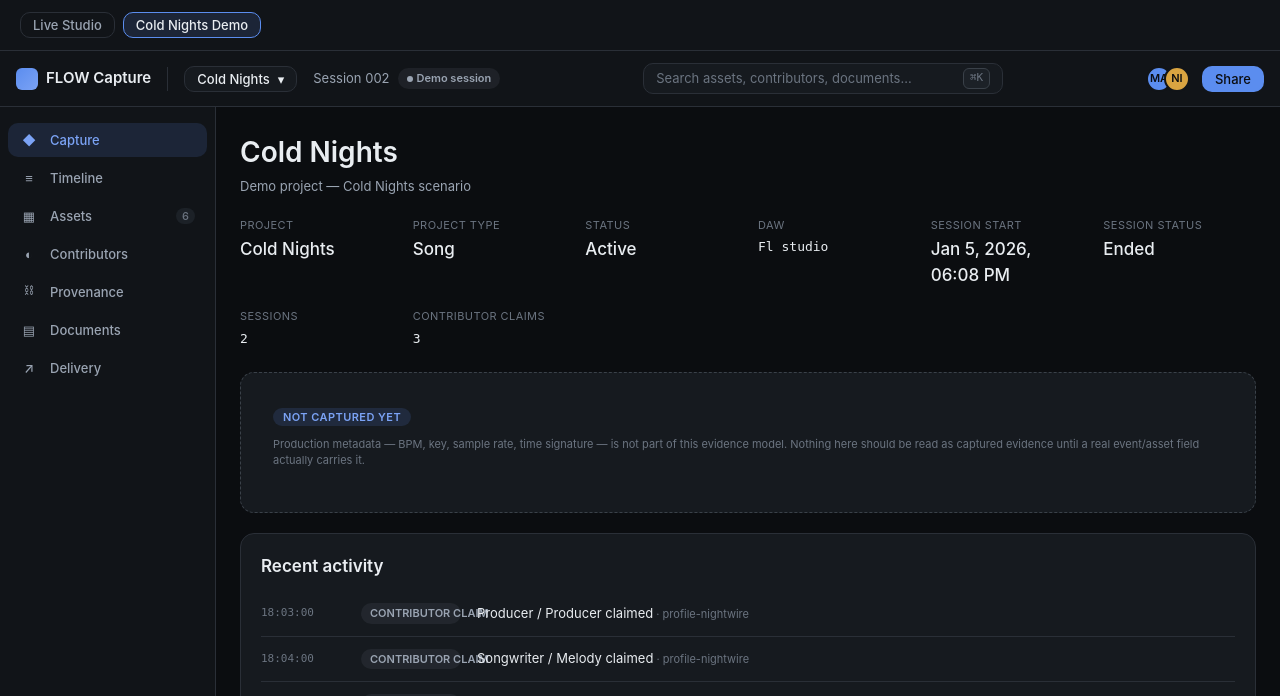
Test: Live Studio — real write path (mocked Studio service) › never labels a contributor claim "Verified" or "Confirmed" in live mode either
Click the button "Live Studio" at (67, 25), box [20,12,115,38]
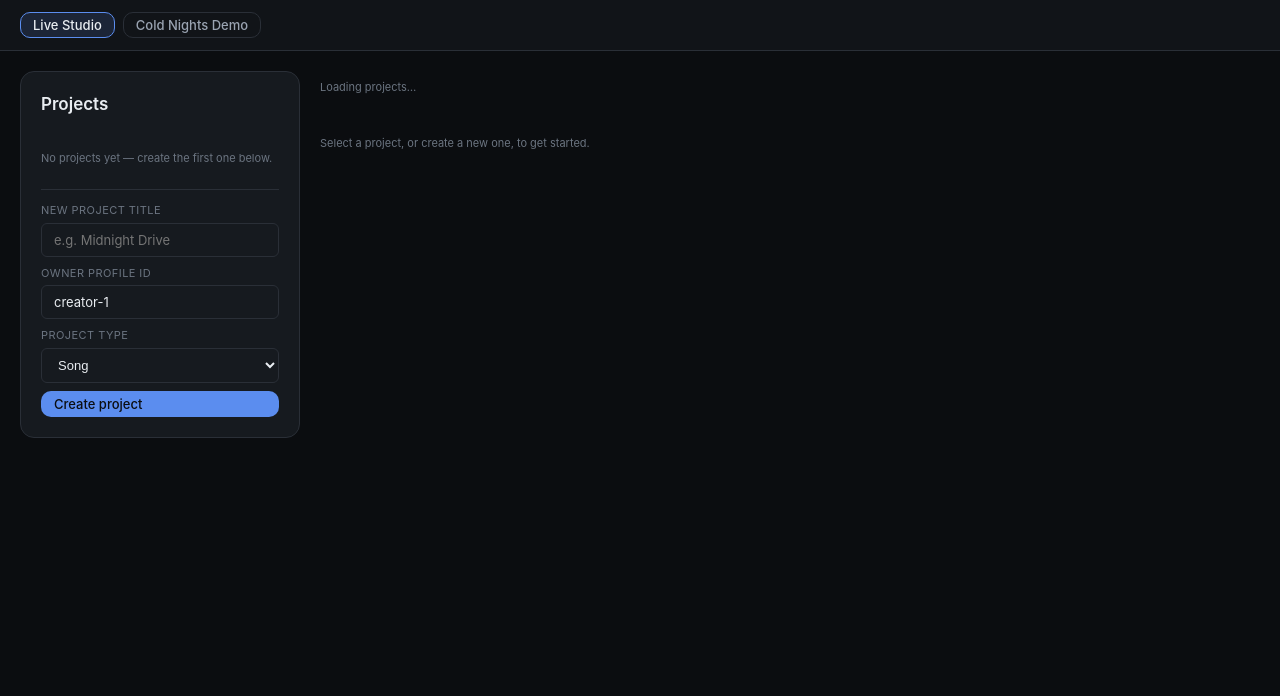
Now the text "No projects yet — create the first one below." is shown, box [41,150,279,166]
Type "Cold Nights 2" into the field with placeholder "e.g. Midnight Drive" at (160, 240), box [41,222,279,256]
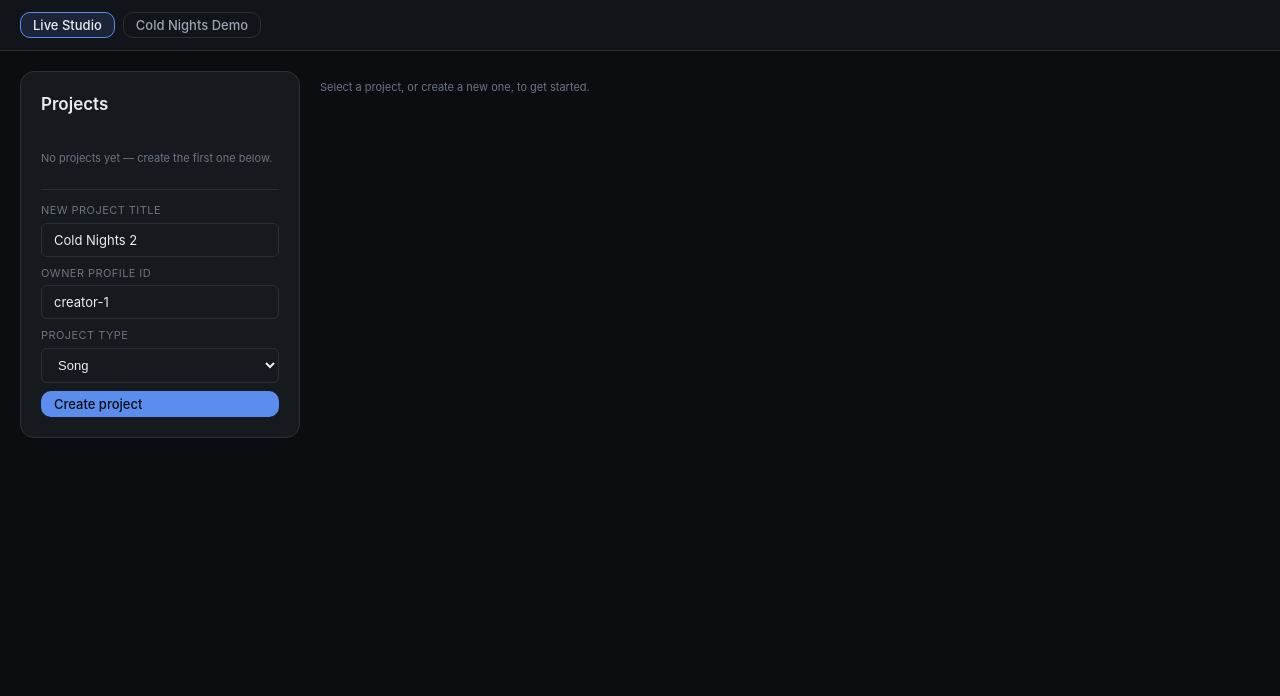
Click the button "Create project" at (160, 404), box [41,390,279,416]
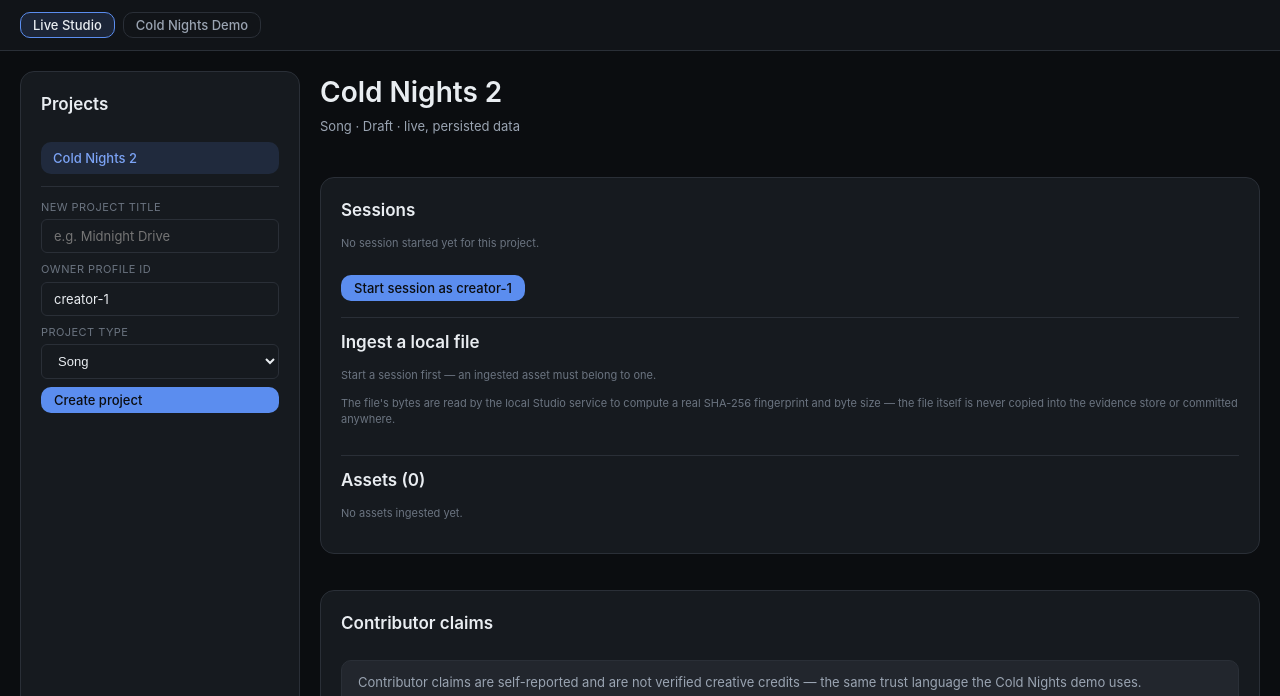
Now the heading "Cold Nights 2" is shown, box [320,71,520,113]
Click the button "Start session as creator-1" at (433, 288), box [341,274,525,300]
(page scrolled)
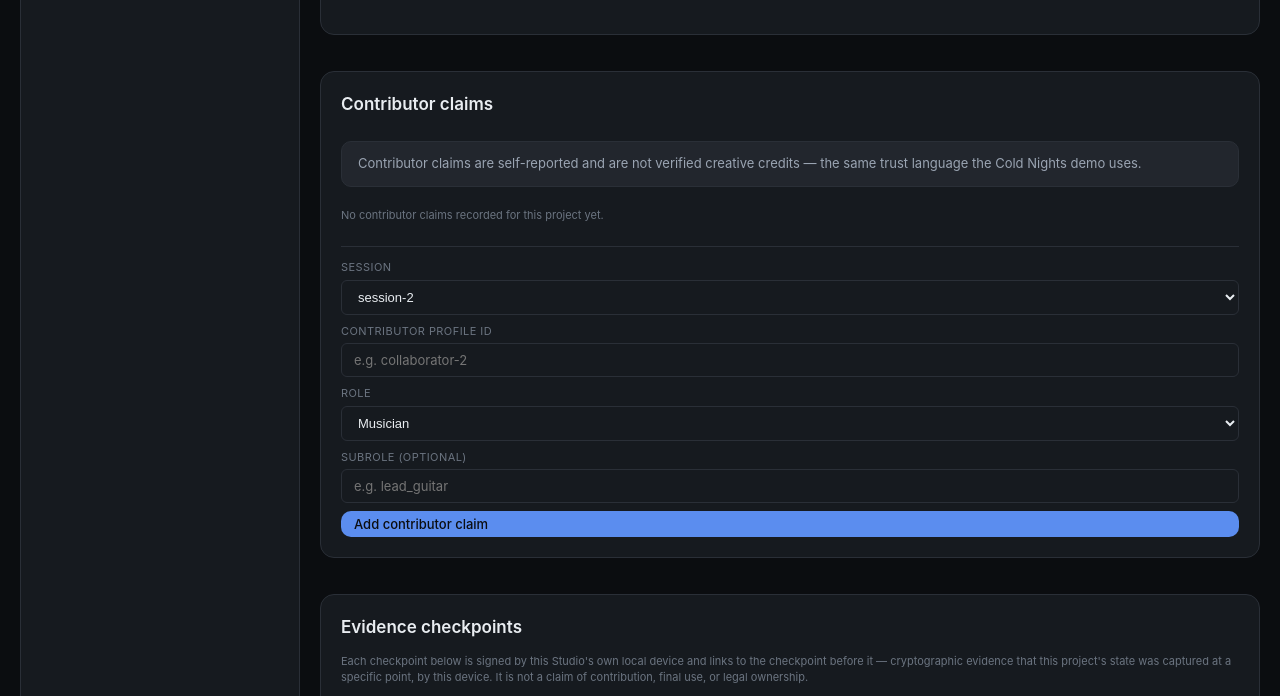
Now the field with placeholder "e.g. collaborator-2" is shown
Type "collaborator-3" into the field with placeholder "e.g. collaborator-2" at (790, 360), box [341,343,1239,377]
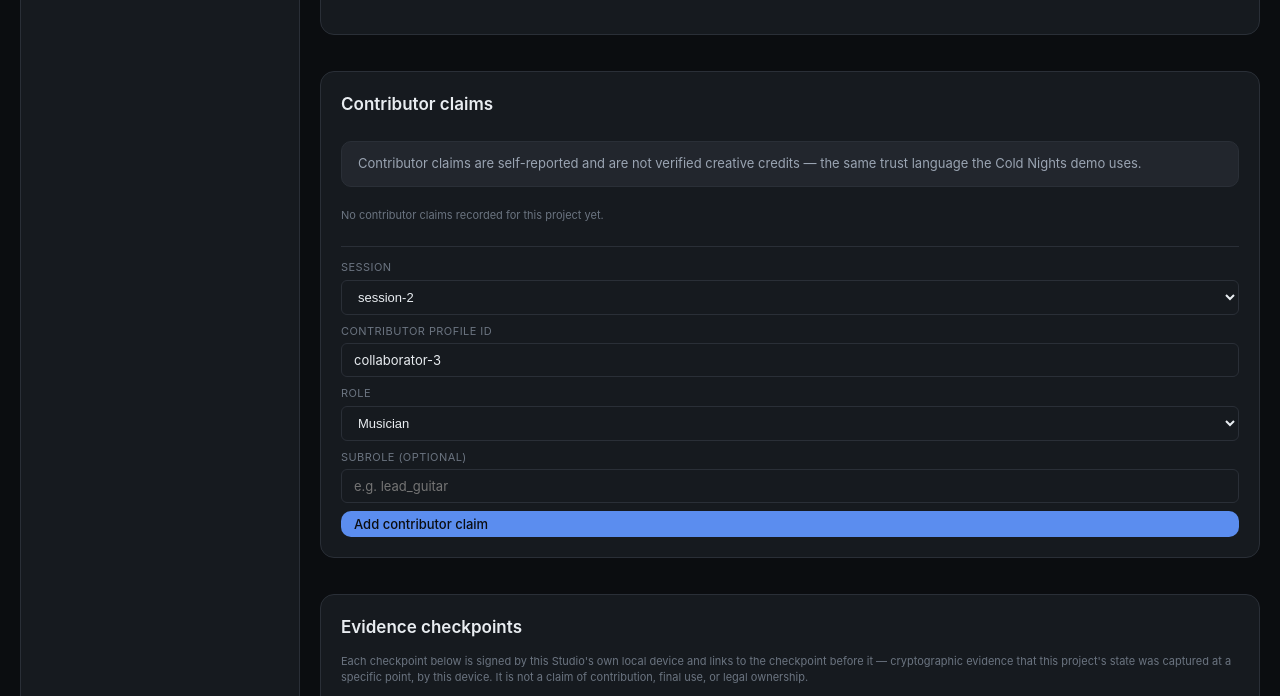
Click the button "Add contributor claim" at (421, 524), box [341,511,1239,537]
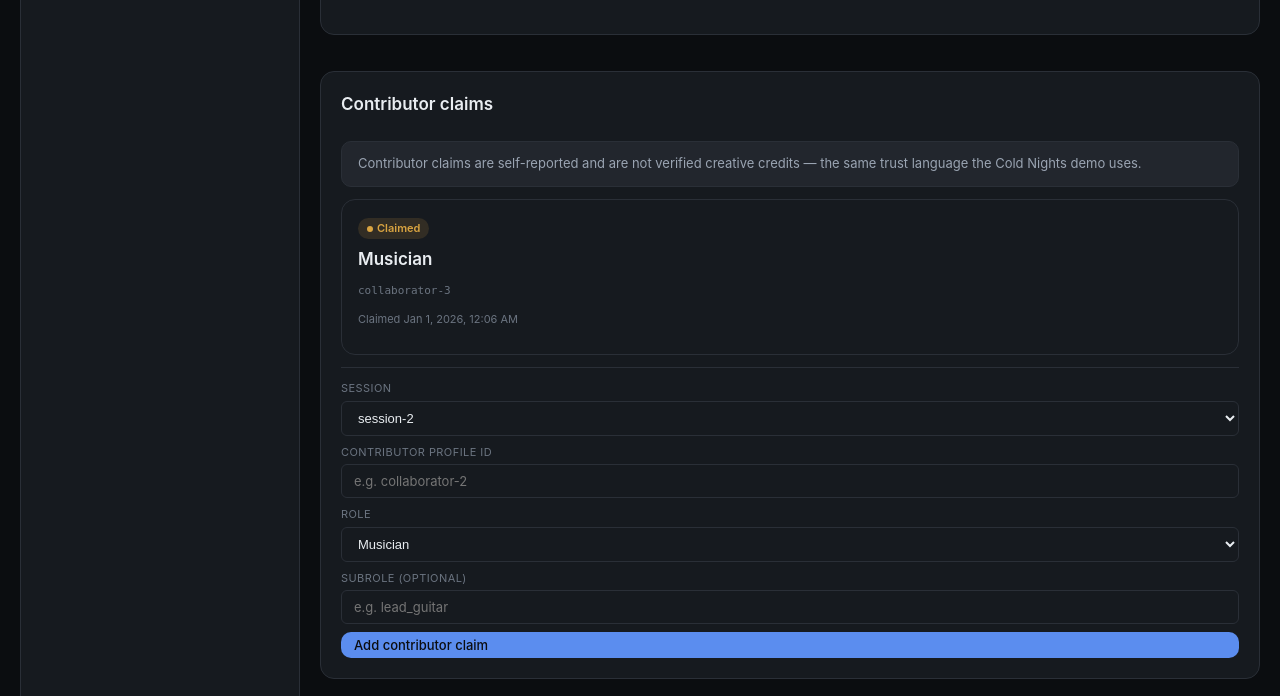
Now the text "collaborator-3" is shown, box [358,284,451,297]
Now the text "Claimed" is shown, box [358,218,430,239]
